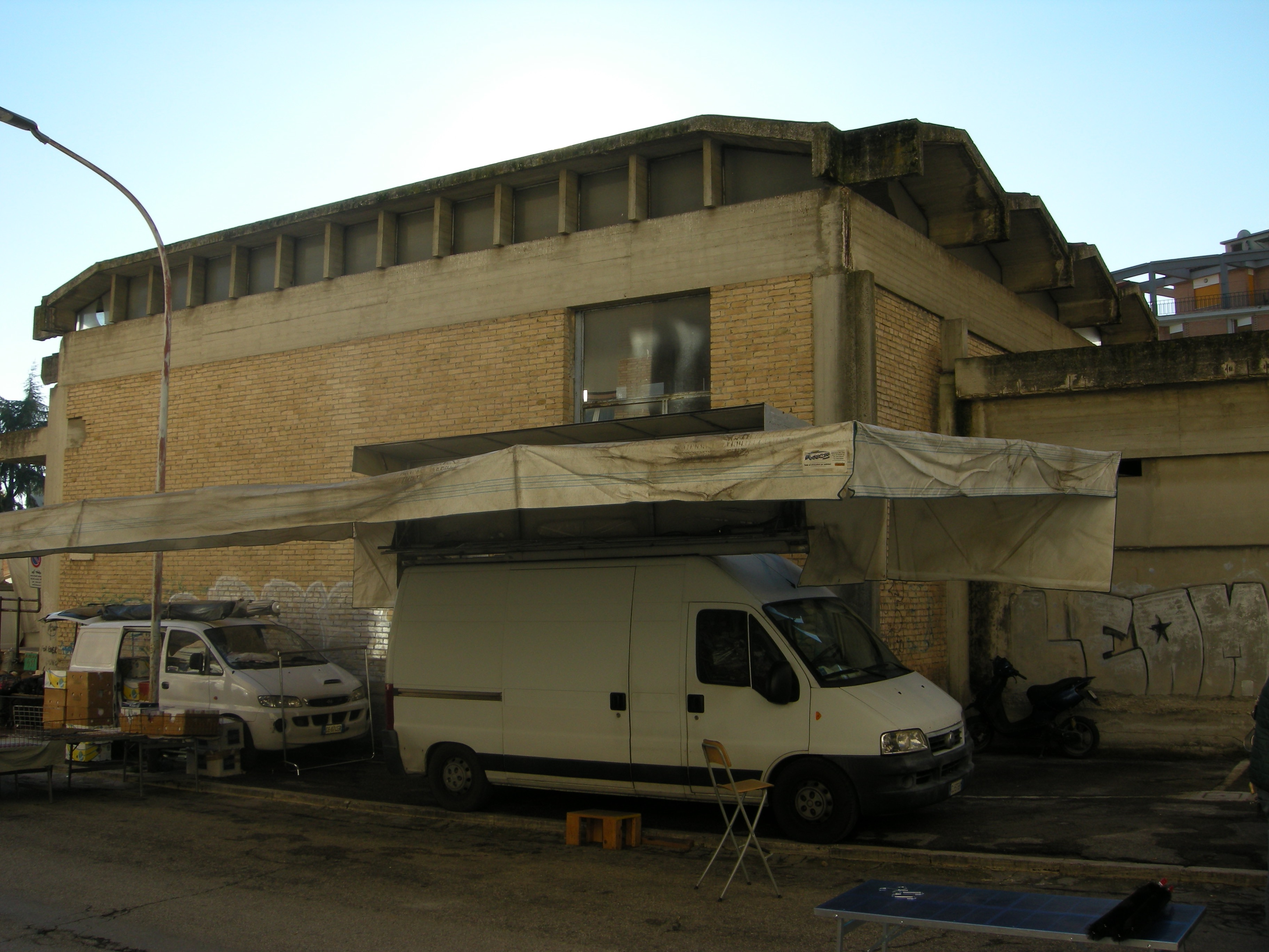Corrosion/Exposed rebar: (954, 355, 1266, 401), (840, 189, 859, 272)
Leaching: (959, 331, 1268, 399), (818, 124, 919, 183), (964, 168, 1002, 208), (973, 208, 1011, 242), (1087, 296, 1117, 327), (1045, 221, 1067, 257), (1052, 257, 1075, 287)
Non structural damage: (63, 412, 90, 452)
Spalling: (955, 354, 1267, 400), (838, 188, 860, 278)
